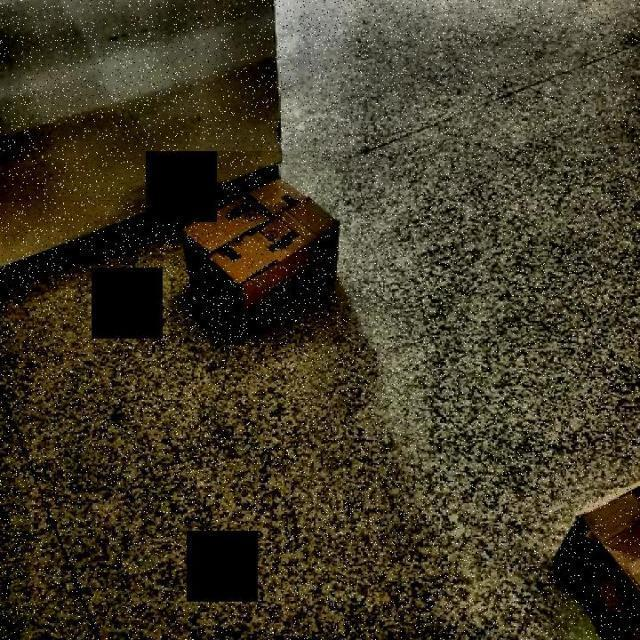box: (171, 151, 351, 343)
